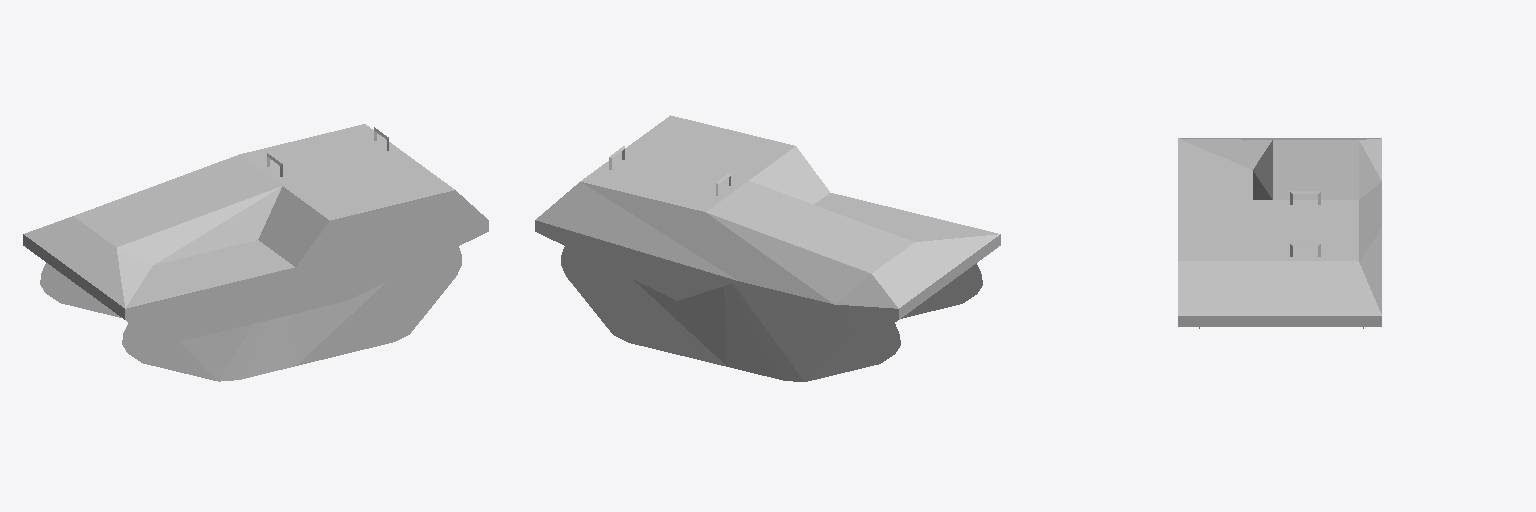
Rendered from treadbaseBL.obj.
The picture shows the model from 3 angles: view 1: azimuth 30°, elevation 25°; view 2: azimuth 150°, elevation 25°; view 3: azimuth 270°, elevation 25°; orthographic projection.
Parts seen in each view (by area): view 1: ungrouped; view 2: ungrouped; view 3: ungrouped.
Part boxes in pixels (x1,y1,x2,y2): ungrouped: (23,124,488,381); ungrouped: (535,115,1000,381); ungrouped: (1178,138,1381,328).
Bounding box in the file's own units: 11.26 × 4.76 × 5.48.